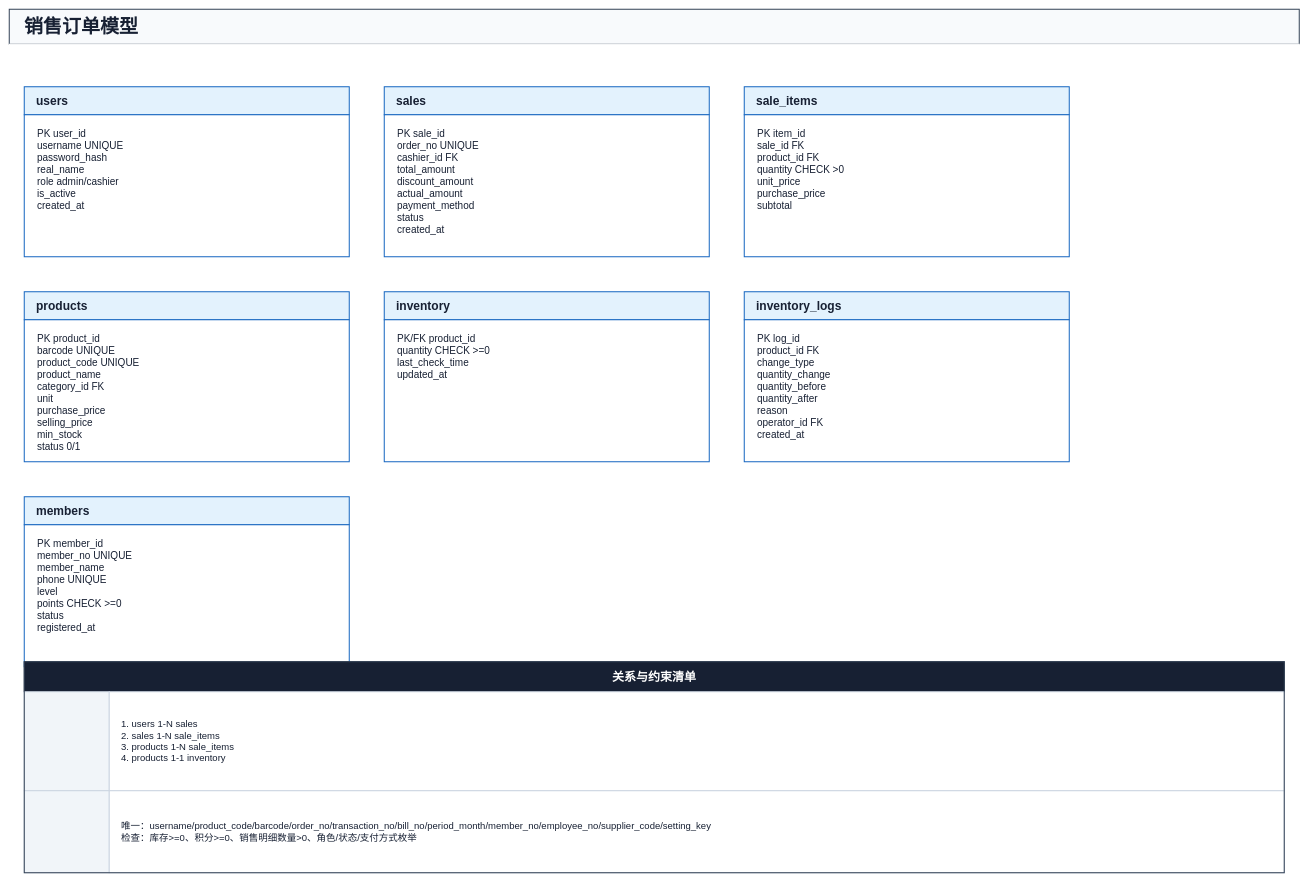
Some shapes in this 1308 by 882 pixel diagram are drawn without their labels. Here are the shapes that lost their labels. From the top down, the centre of each, then its label:
At pixel 654 54: "ER 模型｜表字段、主外键、唯一约束、关系清单".
At pixel 67 741: "关系".
At pixel 67 831: "约束".
